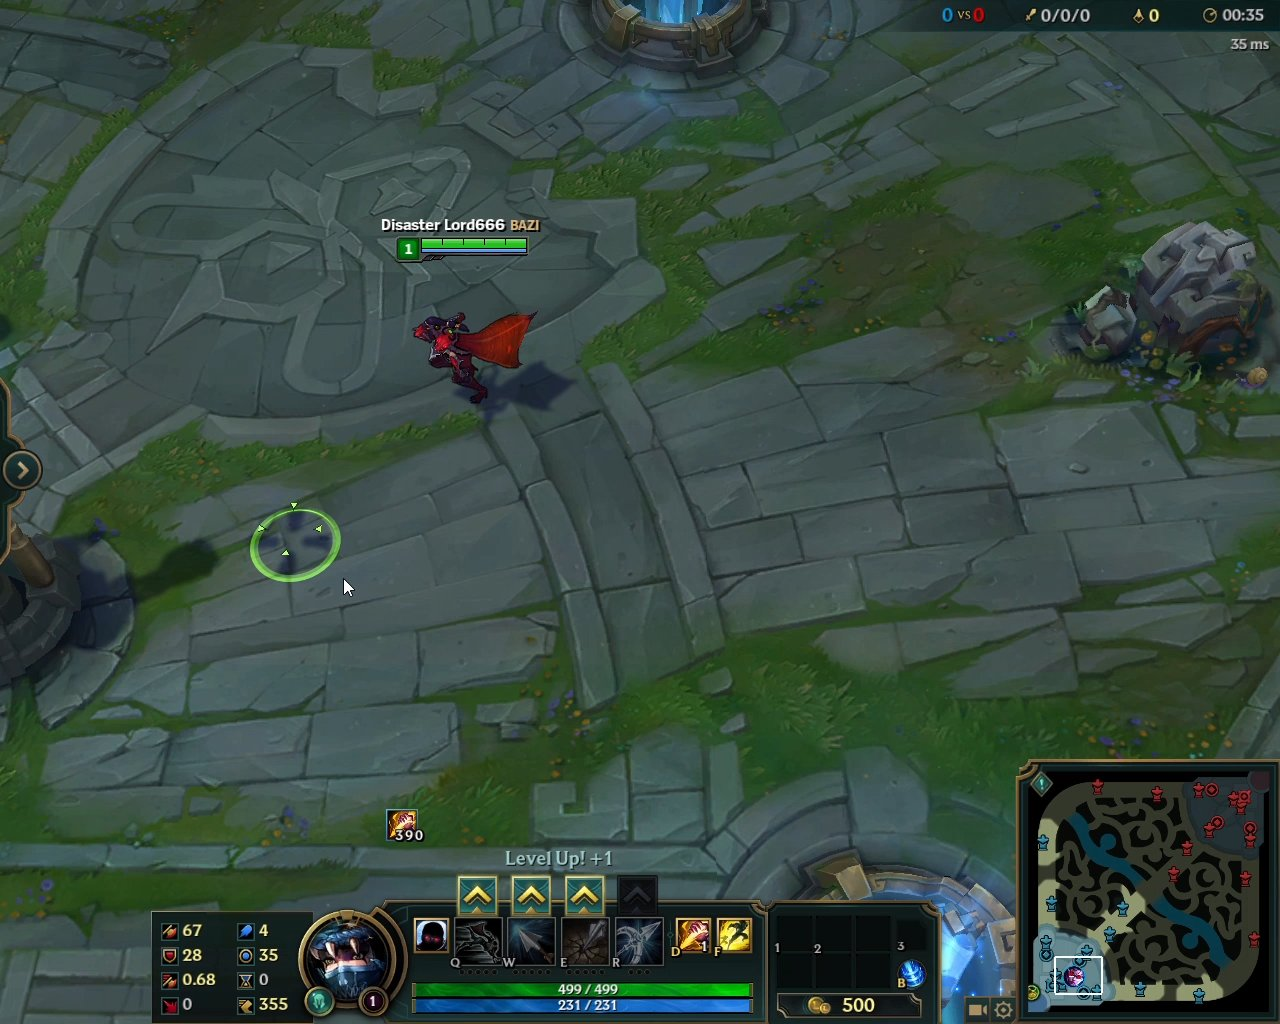Vayne: (409, 306, 544, 411)
